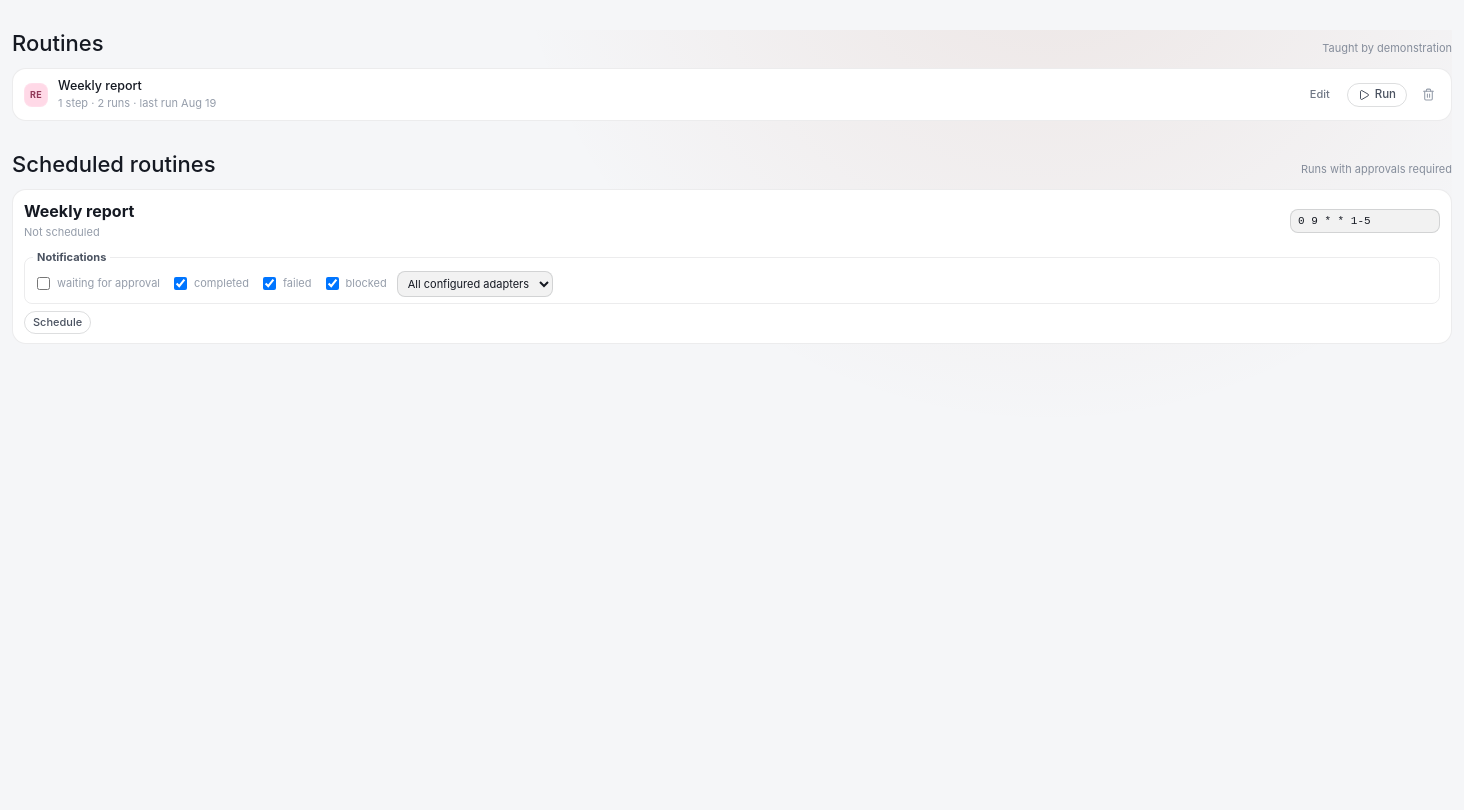
Scenario: RoutinesPanel › edits definition fields while keeping the saved run history visible
Expected: the 1st text "Weekly report" is shown, [58,78,142,93]
Expected: the text "1 step · 2 runs · last run Aug 19" is shown, [58,96,216,110]
Click the button with aria-label "Edit Weekly report".
click(1320, 95)  # box [1303,84,1337,105]
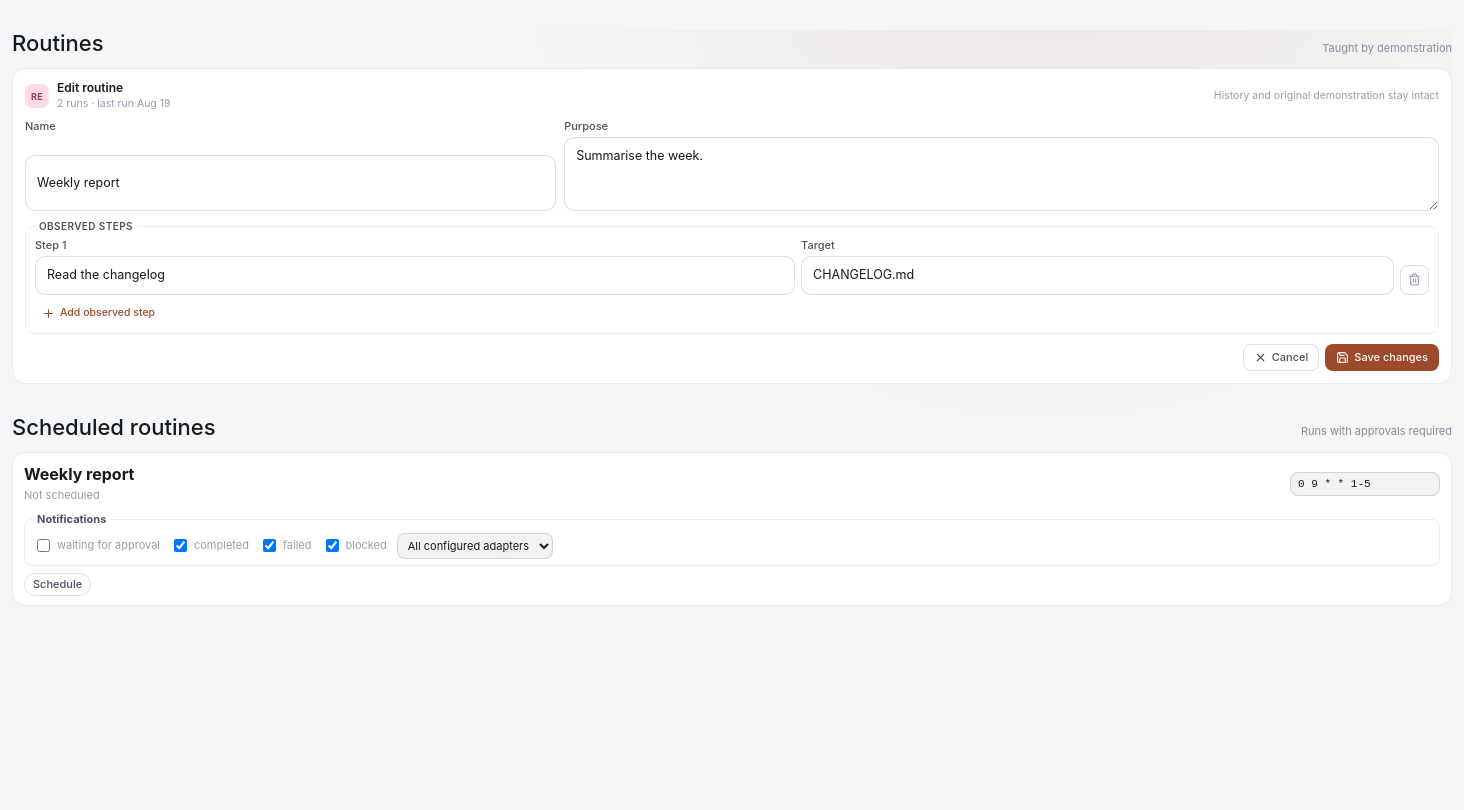
Now the field named "Routine name" holds "Weekly report"
Replace the text in the field named "Routine name" with "Monthly report" at [291, 183], box [25,155,556,212]
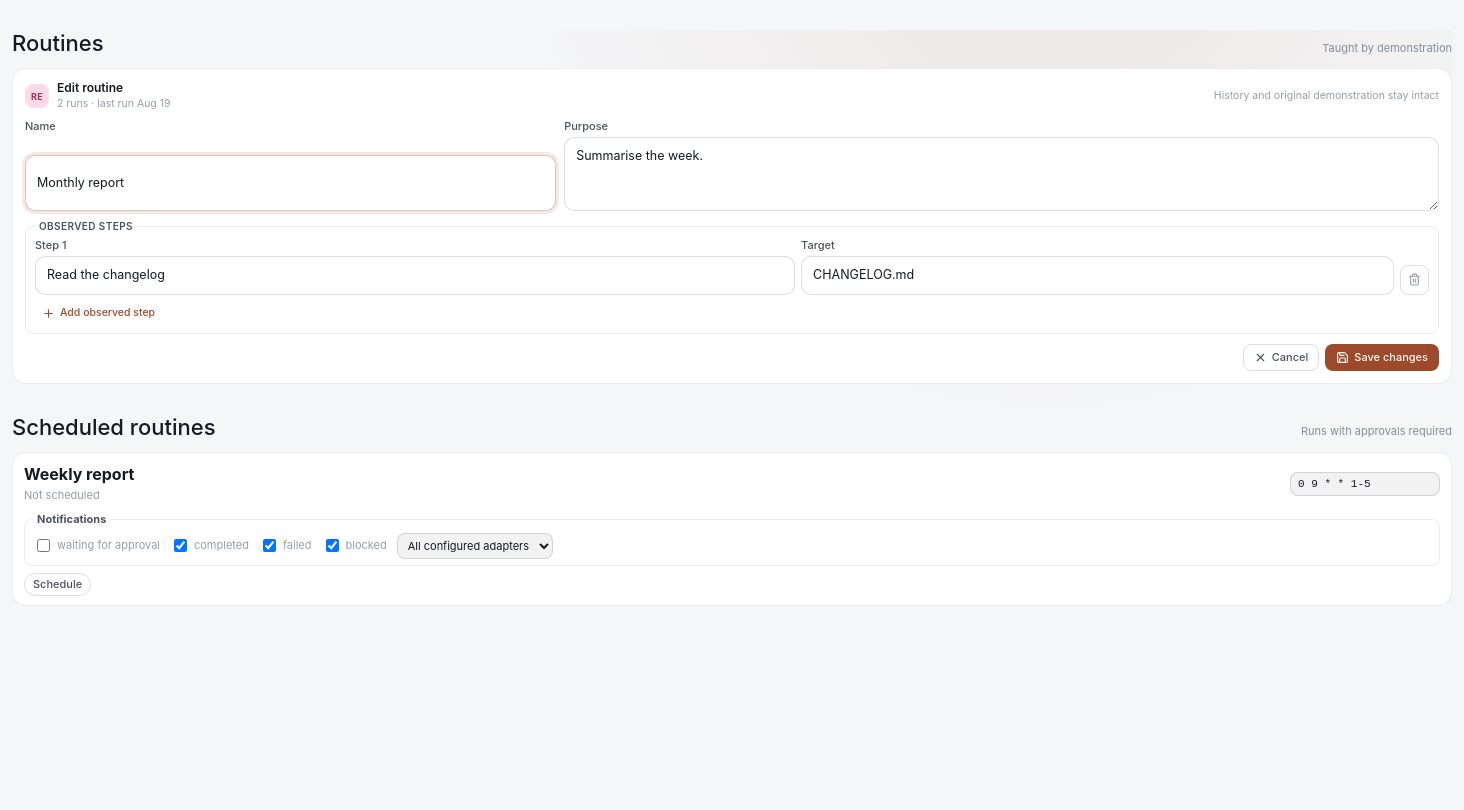
Replace the text in the text box labelled "Purpose" with "Review the month." at [1002, 174], box [564,137,1439,211]
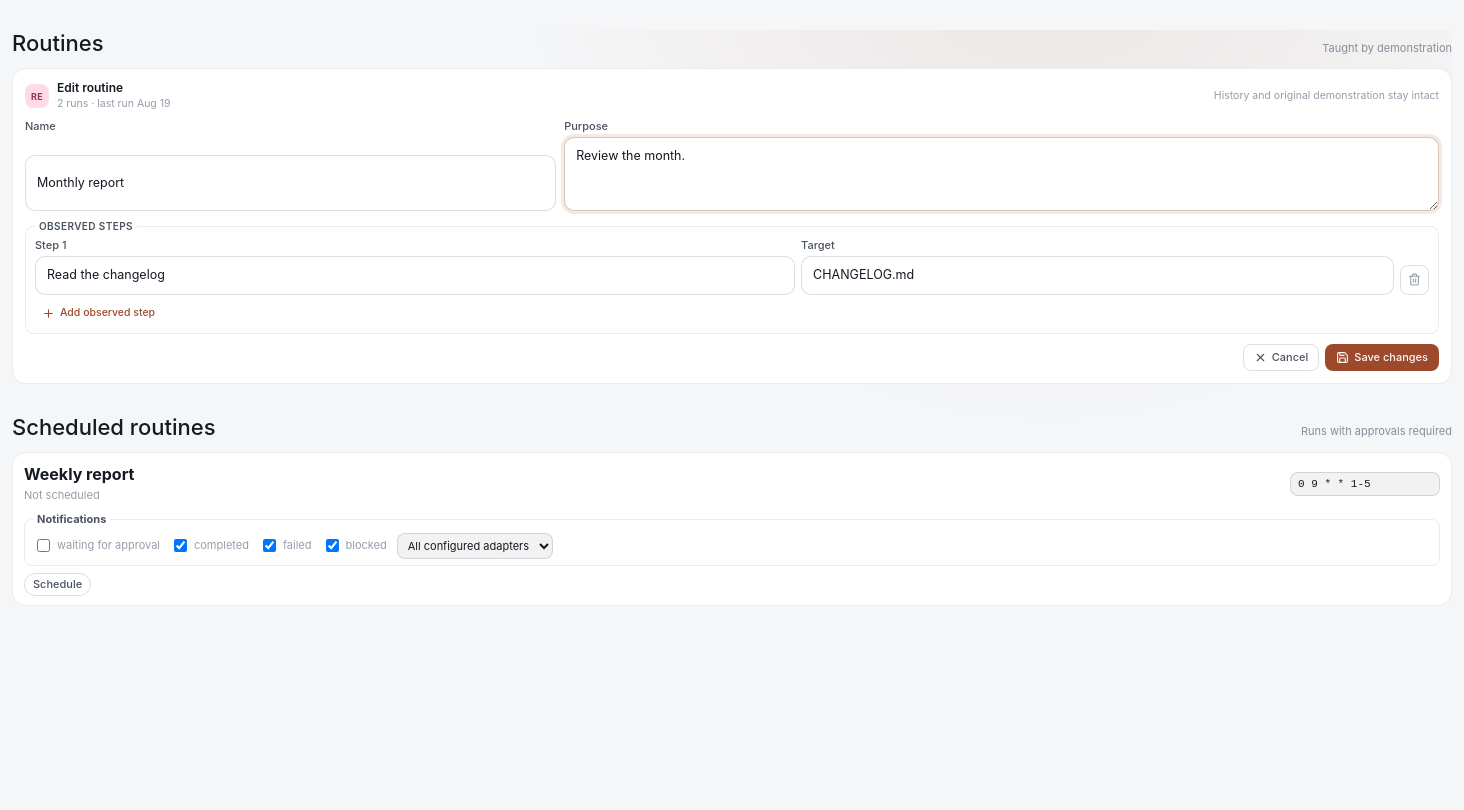
Replace the text in the field named "Routine step 1" with "Read the monthly changelog" at [415, 275], box [35,256,795,294]
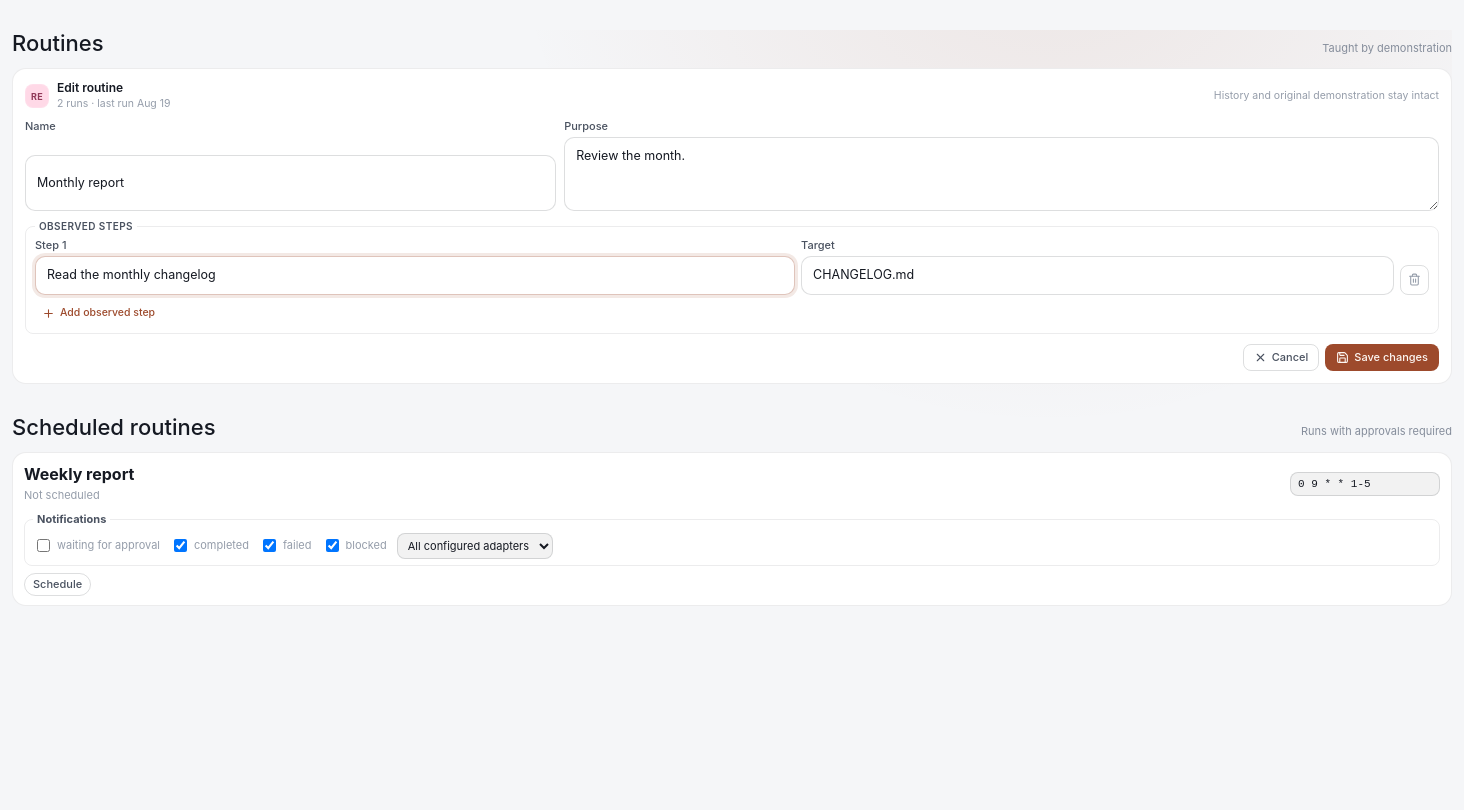
Click the button "Save changes".
click(1382, 357)  # box [1325,344,1439,370]
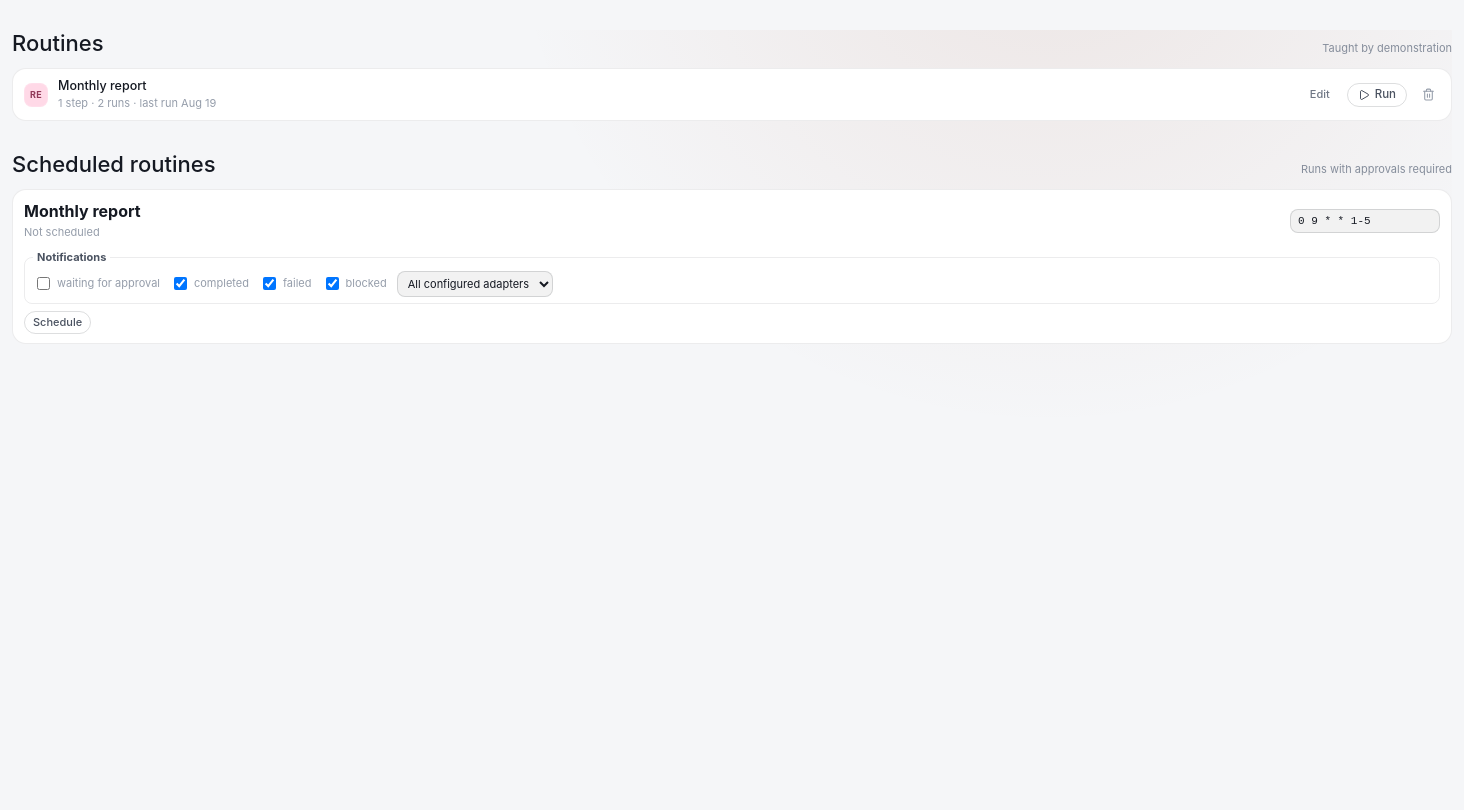
Now the text "1 step · 2 runs · last run Aug 19" is shown, box [58,96,216,110]
